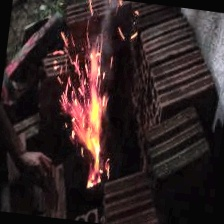fire: (28, 1, 145, 198)
